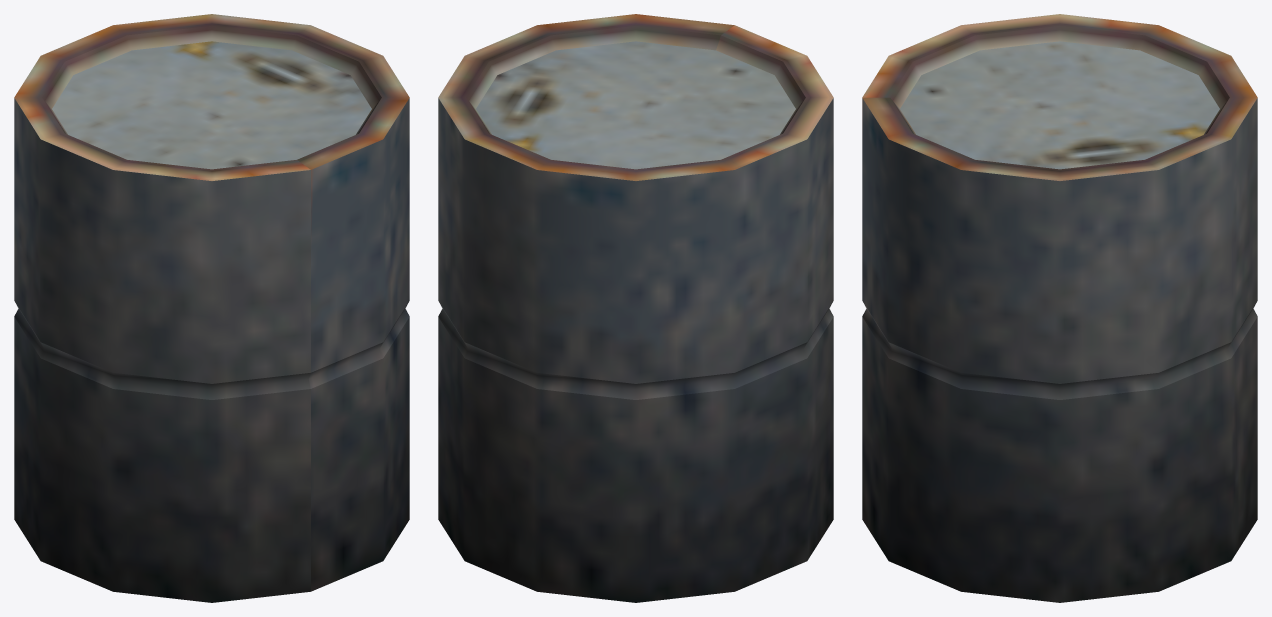
File: SM_BIG_BARREL_02.fbx
3 renders of one model, left to right at view 1: azimuth 30°, elevation 25°; view 2: azimuth 150°, elevation 25°; view 3: azimuth 270°, elevation 25°, orthographic.
Parts seen in each view (by area): view 1: SM_BIG_BARREL_02; view 2: SM_BIG_BARREL_02; view 3: SM_BIG_BARREL_02.
Part boxes in pixels (<box>): SM_BIG_BARREL_02: <box>14,14,409,602</box>; SM_BIG_BARREL_02: <box>438,14,833,602</box>; SM_BIG_BARREL_02: <box>862,14,1257,602</box>.
Bounding box in the file's own units: 0.85 × 1 × 0.85.
